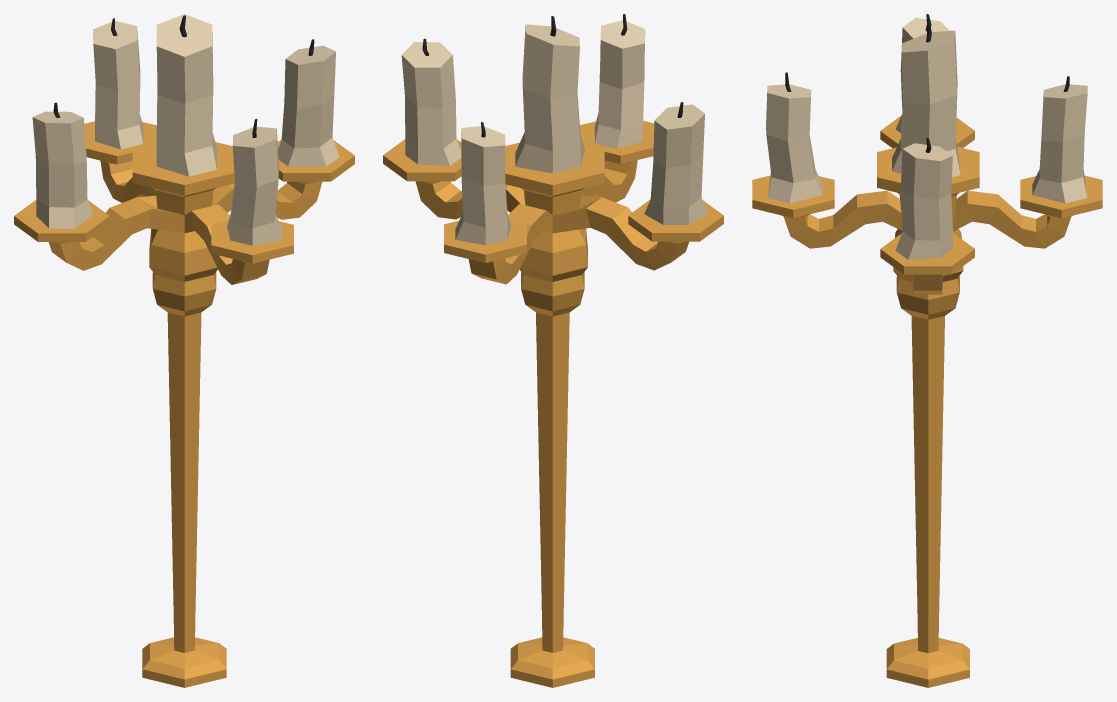
Rendered from Candelabrum_tall.glb.
3 renders of one model, left to right at view 1: azimuth 30°, elevation 25°; view 2: azimuth 150°, elevation 25°; view 3: azimuth 270°, elevation 25°, orthographic.
Visible parts, largest first — view 1: Candelabrum_tall; view 2: Candelabrum_tall; view 3: Candelabrum_tall.
Boxes of the visible parts, x1,y1,x2,y2 form: Candelabrum_tall: [14, 14, 354, 687]; Candelabrum_tall: [383, 14, 723, 687]; Candelabrum_tall: [752, 14, 1102, 687].
Size of the model in its own units: 0.9349 by 1.84 by 0.9028.
